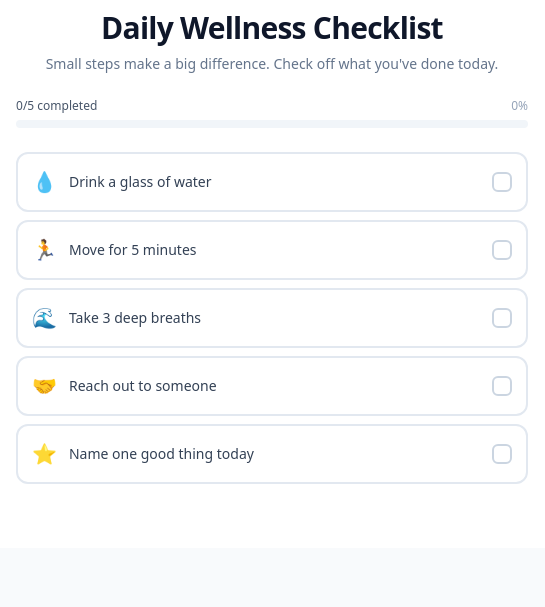
WellnessChecklist › shows completion message when all items are checked
Click the checkbox labelled "💧 Drink a glass of water" at (140,182), box [16,152,528,212]
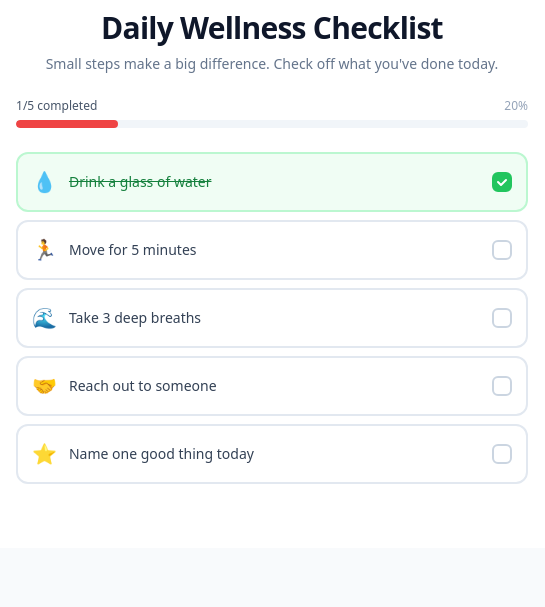
Click the checkbox labelled "🏃 Move for 5 minutes" at (133,250), box [16,220,528,280]
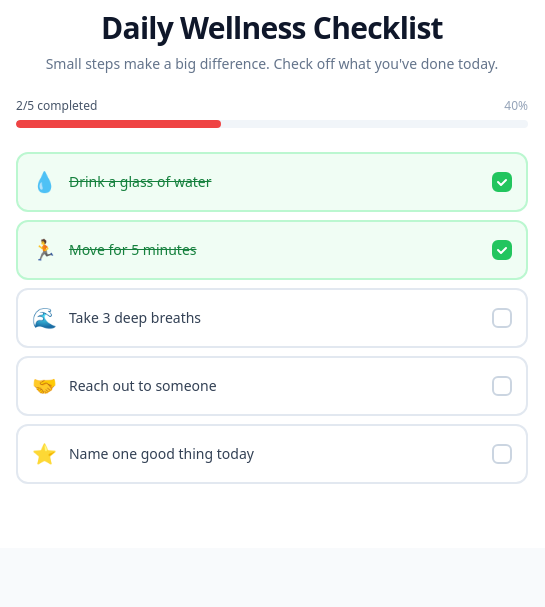
Click the checkbox labelled "🌊 Take 3 deep breaths" at (135,318), box [16,288,528,348]
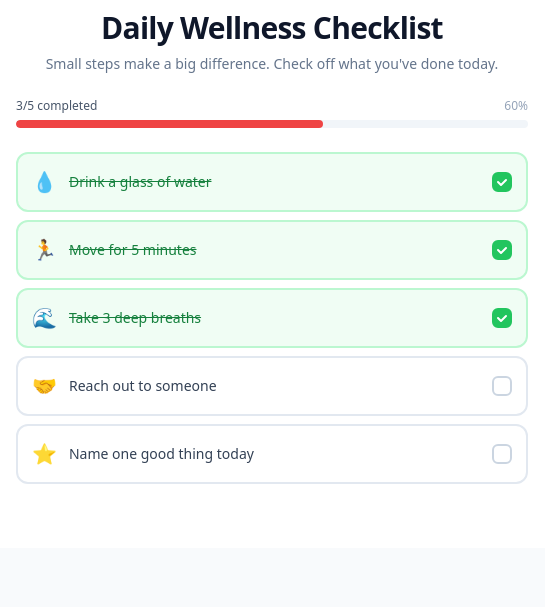
Click the checkbox labelled "🤝 Reach out to someone" at (143,386), box [16,356,528,416]
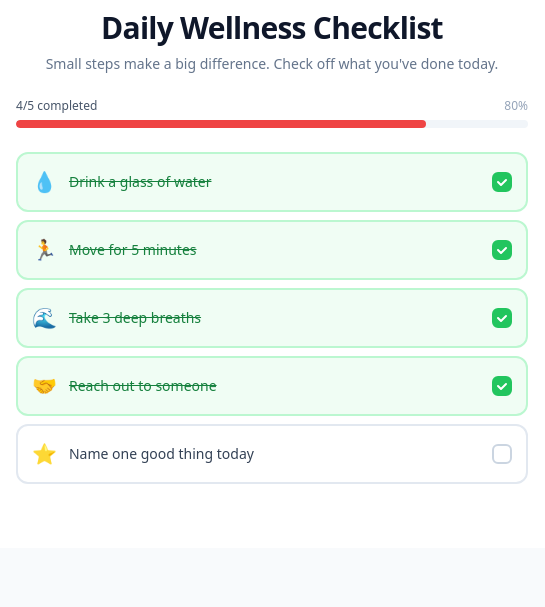
Click the checkbox labelled "⭐ Name one good thing today" at (161,454), box [16,424,528,484]
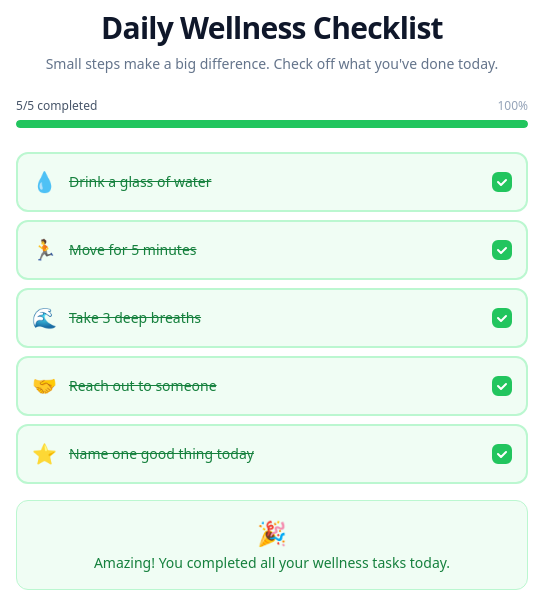
Result: the text "Amazing! You completed all your wellness tasks today." is shown at [94,553,450,572]
